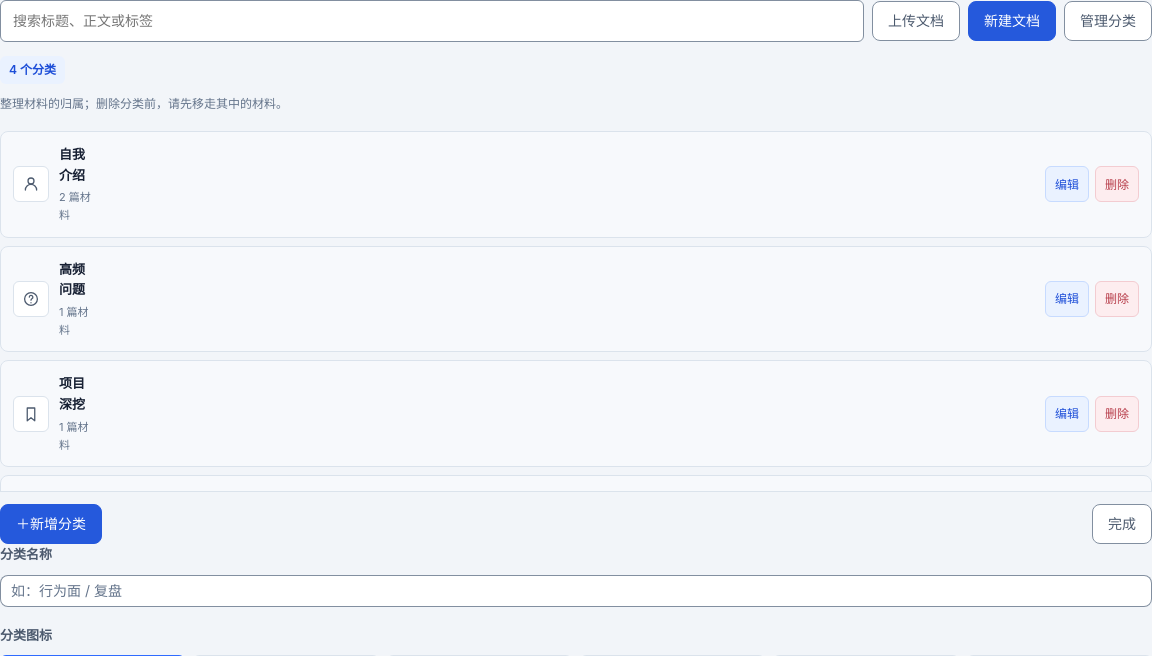
Test: LibraryView › 搜索覆盖正文和标签，无匹配时清空阅读区
Type "HashMap" into the field with class "library-search" at (432, 21), box top-left (0, 0), bottom-right (864, 42)
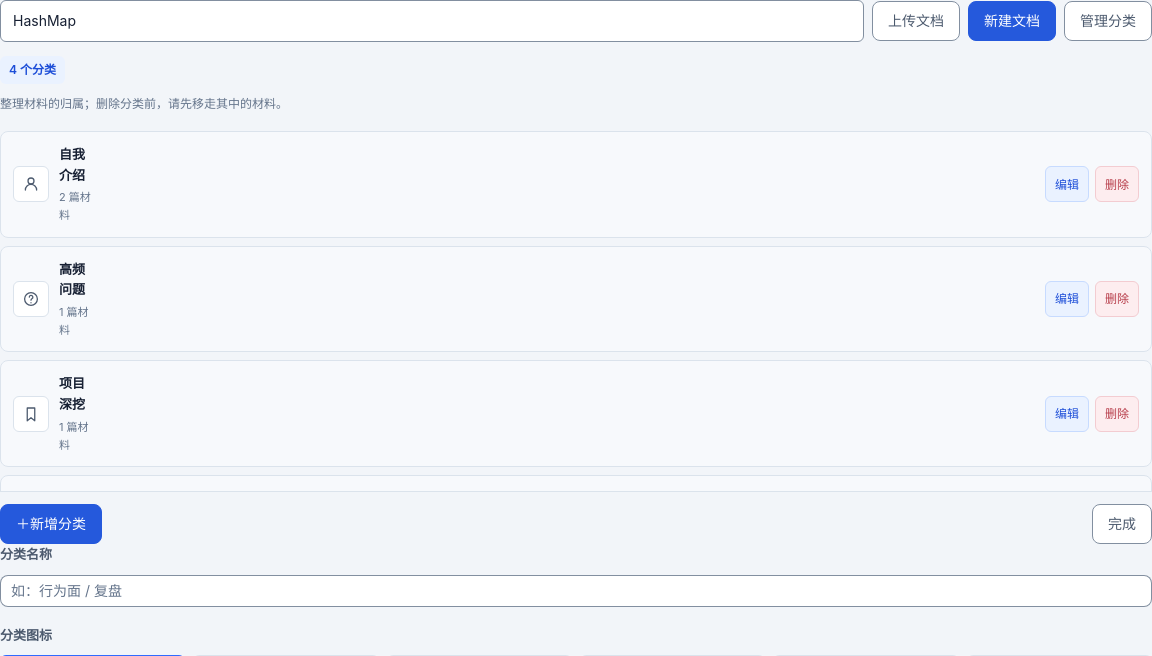
Replace the text in the field with class "library-search" with "no-match-unique" at (432, 21), box top-left (0, 0), bottom-right (864, 42)
(page scrolled)
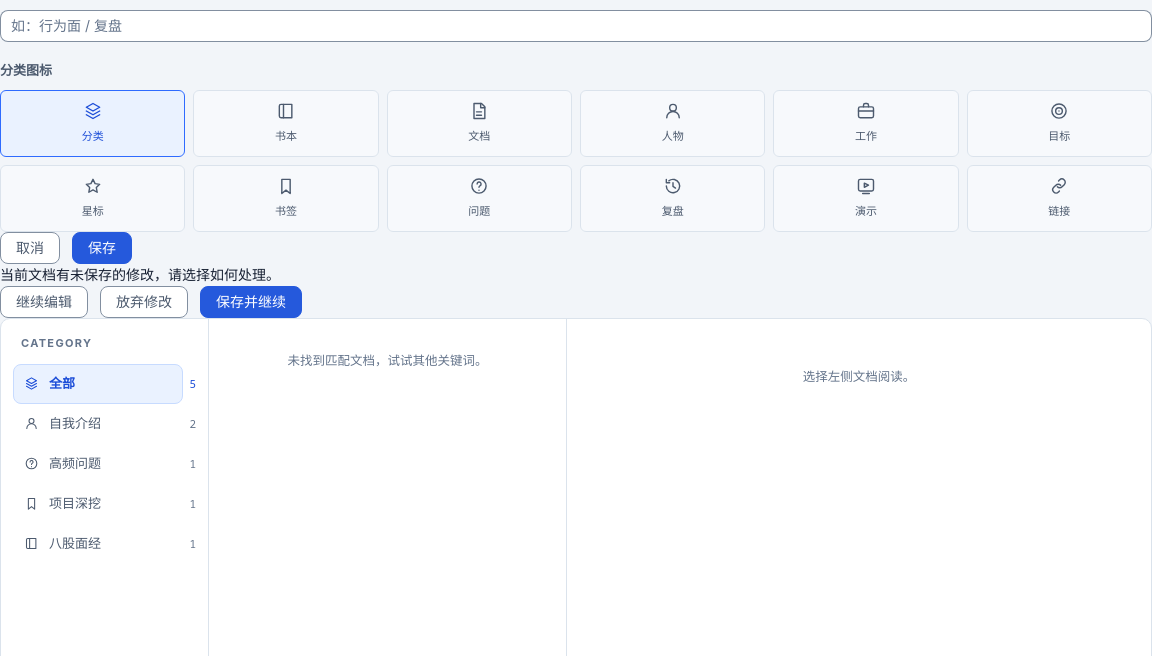
Expected: the text with class "lib-empty" shows "未找到匹配文档", top-left (288, 353), bottom-right (488, 368)
